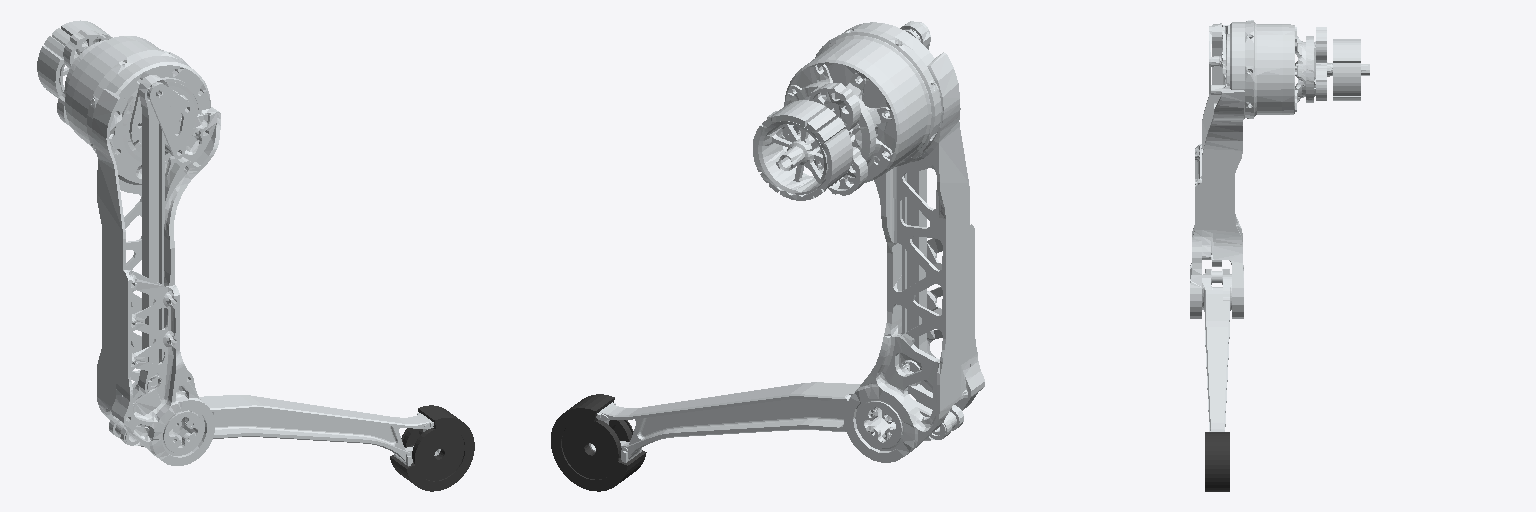
The robot description file, URDF, robot "raibot":
<?xml version="1.0" encoding="utf-8"?>
<!-- This URDF was automatically created by SolidWorks to URDF Exporter! Originally created by [author] ([email redacted]) 
     Commit Version: 1.6.0-1-g15f4949  Build Version: 1.6.7594.29634
     For more information, please see http://wiki.ros.org/sw_urdf_exporter -->
<robot
  name="raibot">
  <link
    name="base">
    <inertial>
      <origin
        xyz="-0.00029991 0.00016404 -0.03744115"
        rpy="0 0 0" />
      <mass
        value="12.37167760" />
      <inertia
        ixx="0.09099956"
        ixy="0.00086574"
        ixz="0.00061281"
        iyy="0.31985024"
        iyz="-0.00010439"
        izz="0.38017107" />
    </inertial>
    <collision>
      <origin
        xyz="0 0 -0.03625"
        rpy="0 0 0" />
      <geometry>
        <box size="0.7104 0.276 0.120"/>
      </geometry>
    </collision>
  </link>
  <link
    name="RH_HIP">
    <inertial>
      <origin
        xyz="0.01074969 0.02789298 -0.00001644"
        rpy="0 0 0" />
      <mass
        value="1.29077719" />
      <inertia
        ixx="0.00098517"
        ixy="-0.00038732"
        ixz="0.00000022"
        iyy="0.00159798"
        iyz="-0.00000061"
        izz="0.00161837" />
    </inertial>
    <visual>
      <origin
        xyz="0 0 0"
        rpy="0 0 0" />
      <geometry>
        <mesh
          filename="RH_HIP.STL" />
      </geometry>
      <material
        name="">
        <color
          rgba="0.898039215686275 0.917647058823529 0.929411764705882 1" />
      </material>
    </visual>
  </link>
  <joint
    name="RH_HAA"
    type="revolute">
    <origin
      xyz="-0.3072 -0.08 -0.03625"
      rpy="0 0 0" />
    <parent
      link="base" />
    <child
      link="RH_HIP" />
    <axis
      xyz="1 0 0" />
    <limit
      lower="-1.5708"
      upper="1.5708"
      effort="63.45"
      velocity="25.7" />
    <dynamics
       rotor_inertia="0.005741839" />
  </joint>
  <link
    name="RH_THIGH">
    <inertial>
      <origin
        xyz="-0.00275637 0.03667150 -0.03254657"
        rpy="0 0 0" />
      <mass
        value="1.96391676" />
      <inertia
        ixx="0.01250094"
        ixy="0.00019734"
        ixz="0.00056417"
        iyy="0.01152066"
        iyz="0.00237400"
        izz="0.00260716" />
    </inertial>
    <visual>
      <origin
        xyz="0 0 0"
        rpy="0 0 0" />
      <geometry>
        <mesh
          filename="RH_THIGH.STL" />
      </geometry>
      <material
        name="">
        <color
          rgba="0.898039215686275 0.917647058823529 0.929411764705882 1" />
      </material>
    </visual>
    <collision>
      <origin rpy="1.57079632679 0 0" xyz="0 0 -0.240"/>
      <geometry>
        <cylinder length="0.053" radius="0.0265"/>
      </geometry>
    </collision>
  </link>
  <joint
    name="RH_HFE"
    type="revolute">
    <origin
      xyz="0 -0.0889 0"
      rpy="0 0 0" />
    <parent
      link="RH_HIP" />
    <child
      link="RH_THIGH" />
    <axis
      xyz="0 1 0" />
    <limit
      lower="-6.2832"
      upper="6.2832"
      effort="63.45"
      velocity="25.7" />
    <dynamics
       rotor_inertia="0.005741839" />
  </joint>
  <link
    name="RH_SHANK">
    <inertial>
      <origin
        xyz="0.00130151 0.00028383 -0.07226529"
        rpy="0 0 0" />
      <mass
        value="0.29554748 " />
      <inertia
        ixx="0.00272392"
        ixy="-0.00000023"
        ixz="-0.00006457"
        iyy="0.00273312"
        iyz="0.00000543"
        izz="0.00008268" />
    </inertial>
    <visual>
      <origin
        xyz="0 0 0"
        rpy="0 0 0" />
      <geometry>
        <mesh
          filename="RH_SHANK.STL" />
      </geometry>
      <material
        name="">
        <color
          rgba="0.898039215686275 0.917647058823529 0.929411764705882 1" />
      </material>
    </visual>
    <collision>
      <origin rpy="0 1.57100577 0" xyz="0.0103 0 -0.1544"/>
      <geometry>
        <box size="0.1711 0.020 0.0253"/>
      </geometry>
    </collision>
  </link>
  <joint
    name="RH_KFE"
    type="revolute">
    <origin
      xyz="0 0 -0.24"
      rpy="0 0 0" />
    <parent
      link="RH_THIGH" />
    <child
      link="RH_SHANK" />
    <axis
      xyz="0 1 0" />
    <limit
      lower="-2.4696"
      upper="-0.0262"
      effort="63.45"
      velocity="25.7" />
    <dynamics
       rotor_inertia="0.005741839" />
  </joint>
  <link
    name="RH_FOOT">
    <inertial>
      <origin
        xyz="-0.00051991 -0.00103462 -0.00171611"
        rpy="0 0 0" />
      <mass
        value="0.06096633" />
      <inertia
        ixx="0.00001314"
        ixy="-0.00000003"
        ixz="-0.00000063"
        iyy="0.00001600"
        iyz="-0.00000011"
        izz="0.00001501" />
    </inertial>
    <visual>
      <origin
        xyz="0 0 0"
        rpy="0 0 0" />
      <geometry>
        <mesh
          filename="RH_FOOT.STL" />
      </geometry>
      <material
        name="">
        <color
          rgba="0.298039215686275 0.298039215686275 0.298039215686275 1" />
      </material>
    </visual>
    <collision>
      <origin rpy="1.57079632679 0 0" xyz="0 0 0"/>
      <geometry>
        <cylinder length="0.025" radius="0.0295"/>
      </geometry>
    </collision>
  </link>
  <joint
    name="RH_S2F"
    type="fixed">
    <origin
      xyz="0 0 -0.24"
      rpy="0 0 0" />
    <parent
      link="RH_SHANK" />
    <child
      link="RH_FOOT" />
    <axis
      xyz="0 0 0" />
  </joint>
</robot>

--- What the picture shows (computed from the rendered views, not written in the file) ---
The picture shows the robot from 3 angles, left to right: view 1: azimuth 30°, elevation 25°; view 2: azimuth 150°, elevation 25°; view 3: azimuth 270°, elevation 25°; orthographic projection.
Robot: raibot — 5 links, 4 joints (3 revolute, 1 fixed); root link base; default pose: joints at zero except 1 at the middle of their limits (RH_KFE = -1.25).
Visible links, largest first — view 1: RH_THIGH, RH_SHANK, RH_FOOT; view 2: RH_THIGH, RH_SHANK, RH_FOOT; view 3: RH_THIGH, RH_SHANK, RH_FOOT.
Boxes of the visible links, box(x1,y1,x2,y2) form: RH_THIGH: box(37, 20, 220, 465); RH_SHANK: box(109, 395, 440, 466); RH_FOOT: box(390, 405, 474, 491); RH_THIGH: box(753, 21, 984, 462); RH_SHANK: box(589, 382, 963, 462); RH_FOOT: box(551, 394, 646, 491); RH_THIGH: box(1190, 20, 1369, 318); RH_SHANK: box(1202, 269, 1231, 431); RH_FOOT: box(1205, 432, 1229, 491).
Bounding box of the posed robot: 0.3083 × 0.1755 × 0.3936 m (x, y, z).
3 mesh visuals loaded from 4 distinct referenced files (3 binary STL); not drawn: 1 (reference not matched to a file when rendering).